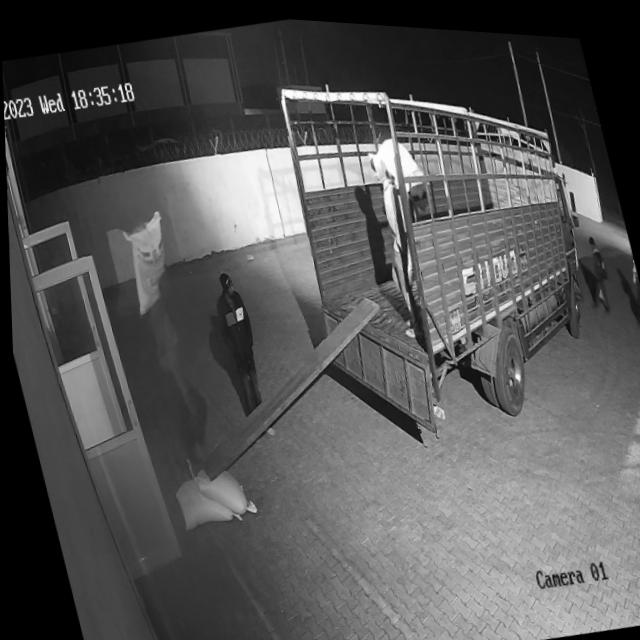sack: (113, 204, 180, 316), (183, 446, 253, 521), (167, 466, 239, 529), (374, 127, 426, 185)
